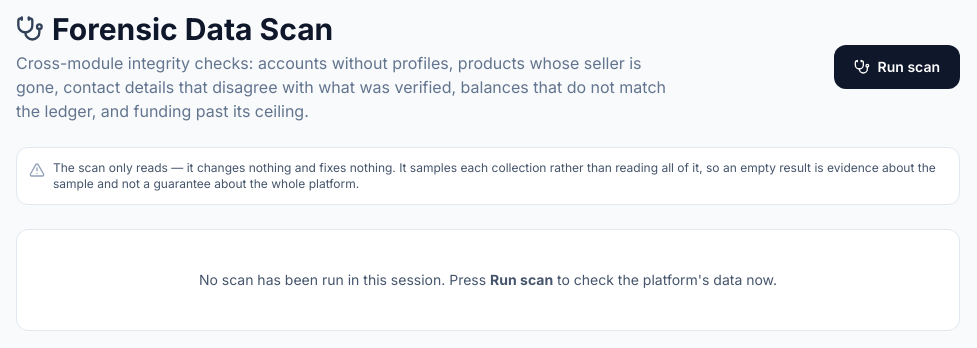
Test case: #266 — a refusal is never shown as a clean result › A REFUSED SCAN SAYS IT DID NOT RUN, AND SHOWS NO RESULTS
What coordinates should you click on to do the following:
click the button "Run scan"
I would click on:
 (897, 67)
Its box is [834,45,960,89].
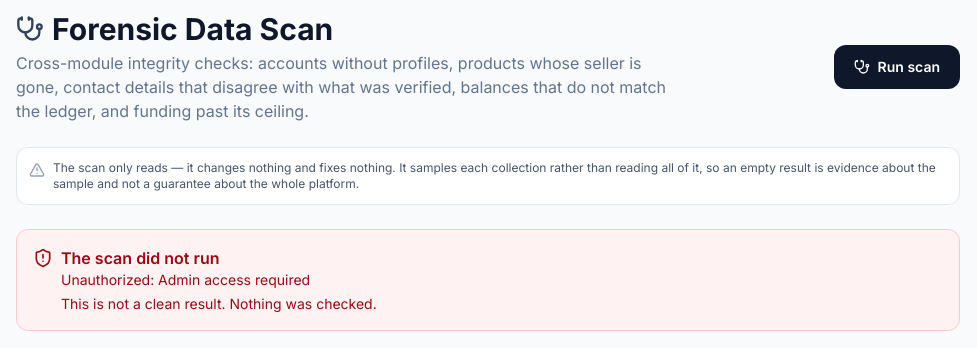
Expected: the text "The scan did not run" is shown, [61,248,220,268]
Expected: the text "Unauthorized: Admin access required" is shown, [61,271,310,288]
Expected: the text "This is not a clean result. Nothing was checked." is shown, [61,294,377,314]
